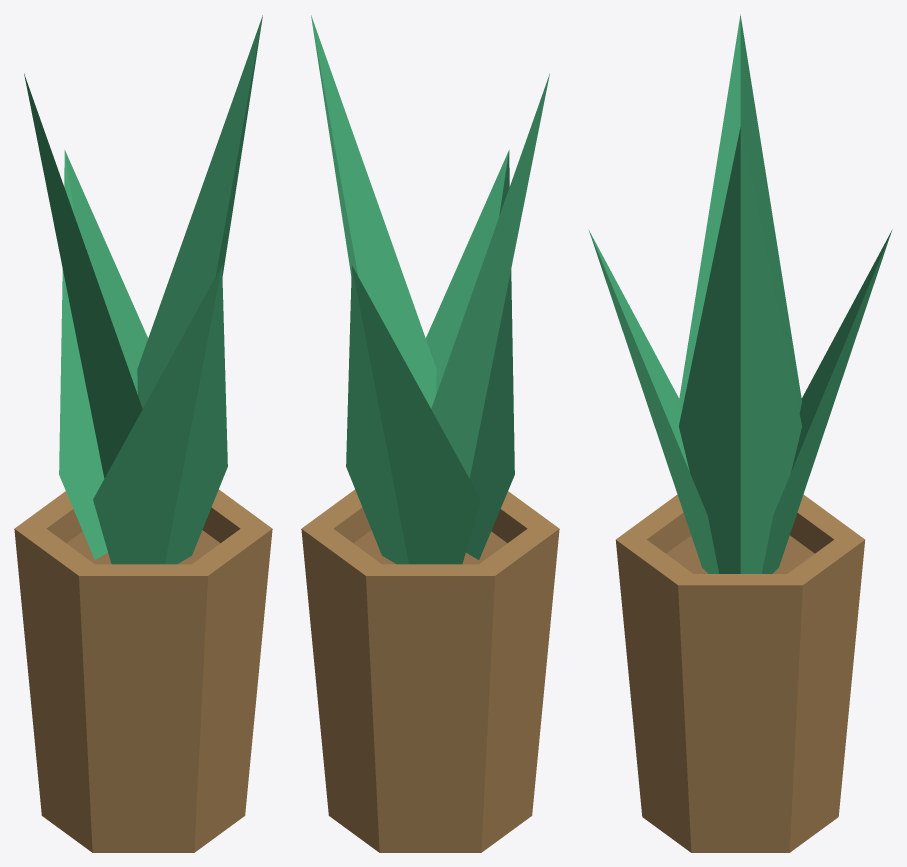
Rendered from pottedPlant.glb.
3 renders of one model, left to right at view 1: azimuth 30°, elevation 25°; view 2: azimuth 150°, elevation 25°; view 3: azimuth 270°, elevation 25°, orthographic. The views are drawn at different scales.
Visible parts, largest first — view 1: pottedPlant; view 2: pottedPlant; view 3: pottedPlant.
Boxes of the visible parts, bbox=[...] form: pottedPlant: bbox=[14, 15, 272, 852]; pottedPlant: bbox=[301, 15, 559, 852]; pottedPlant: bbox=[588, 14, 892, 852].
Size of the model in its own units: 0.4241 by 1.31 by 0.4829.
